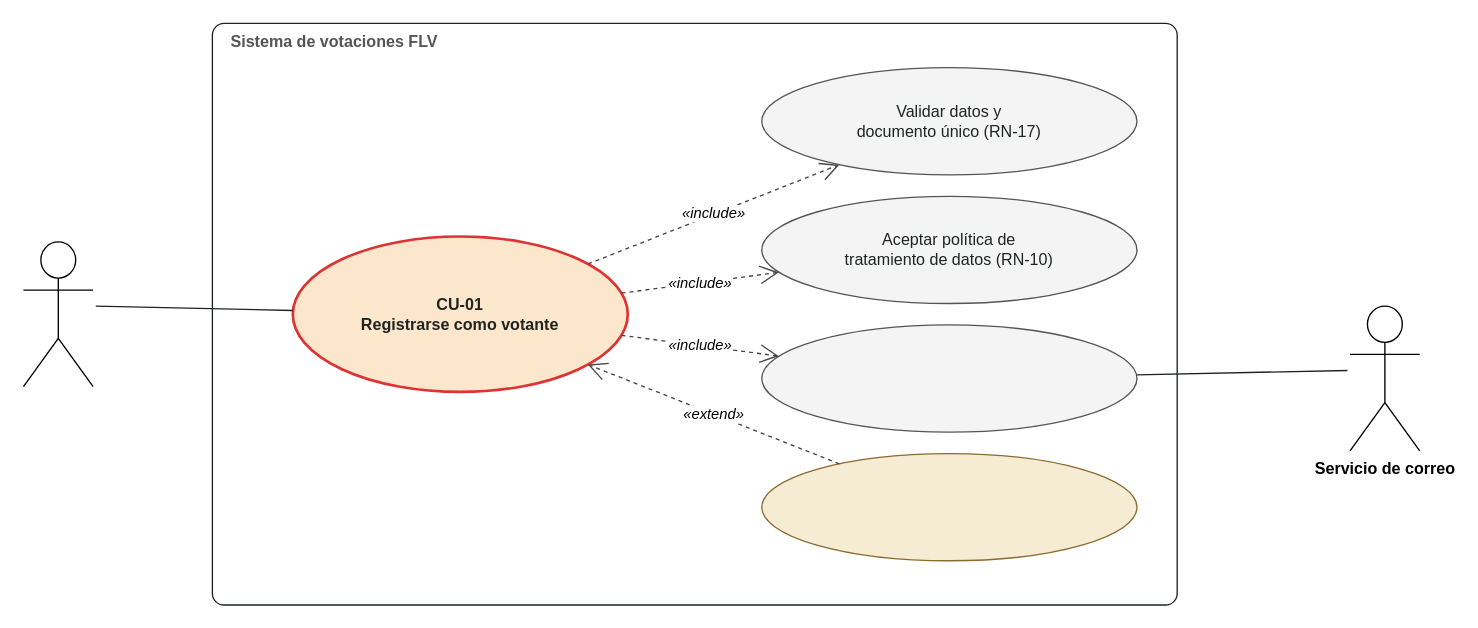
Image size: 1478x628. Some labels were removed from this diagram. The centre of each missing label's shape, as x and y in pixels:
"Enviar enlace de confirmación del correo" goes at (948,378).
"Sugerir iniciar sesión (correo ya registrado)" goes at (948,506).
"Visitante" goes at (57,314).
